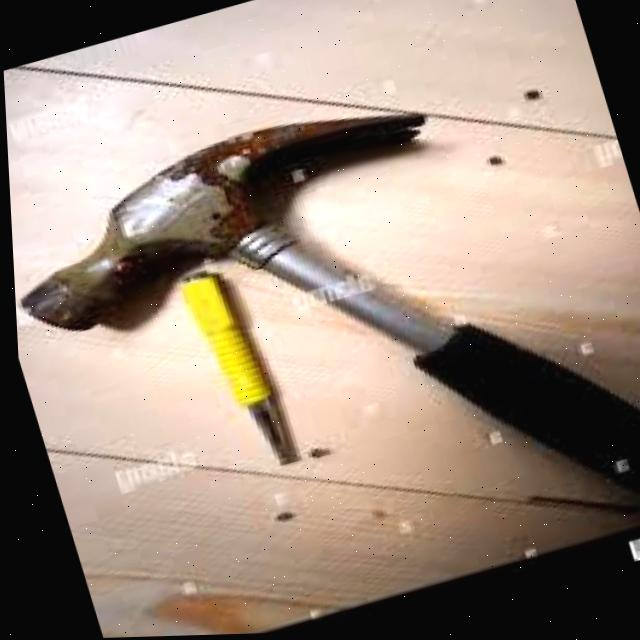hammer: (2, 27, 640, 640)
